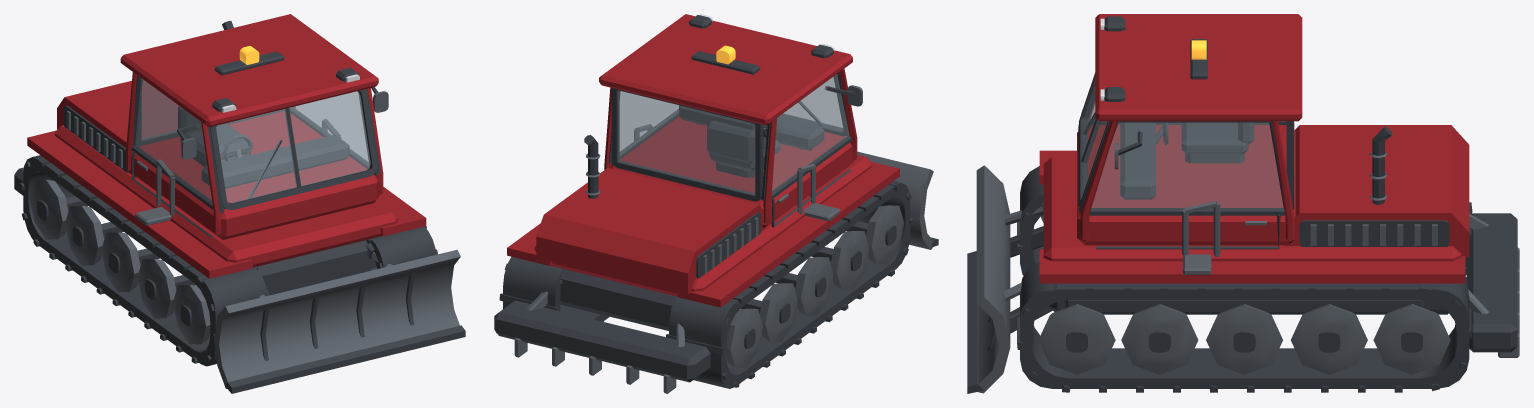
File: Snowcat.glb
The picture shows the model from 3 angles, left to right: view 1: azimuth 30°, elevation 25°; view 2: azimuth 150°, elevation 25°; view 3: azimuth 270°, elevation 25°; orthographic projection. The views are drawn at different scales.
Parts seen in each view (by area): view 1: Snowcat_Red, Snowcat_Steel, Snowcat_SteelDark, Snowcat_CabGlass, Snowcat_Rubber; view 2: Snowcat_Red, Snowcat_SteelDark, Snowcat_CabGlass, Snowcat_Rubber, Snowcat_Steel; view 3: Snowcat_Red, Snowcat_SteelDark, Snowcat_Steel, Snowcat_Rubber, Snowcat_CabGlass.
Boxes of the visible parts, bbox=[...] form: Snowcat_Red: bbox=[27, 14, 426, 278]; Snowcat_Steel: bbox=[29, 91, 460, 388]; Snowcat_SteelDark: bbox=[14, 20, 465, 393]; Snowcat_CabGlass: bbox=[135, 78, 370, 203]; Snowcat_Rubber: bbox=[23, 106, 436, 366]; Snowcat_Red: bbox=[507, 14, 899, 307]; Snowcat_SteelDark: bbox=[494, 15, 938, 387]; Snowcat_CabGlass: bbox=[617, 74, 848, 194]; Snowcat_Rubber: bbox=[503, 120, 910, 388]; Snowcat_Steel: bbox=[514, 85, 933, 393]; Snowcat_Red: bbox=[1039, 14, 1469, 283]; Snowcat_SteelDark: bbox=[967, 16, 1517, 393]; Snowcat_Steel: bbox=[976, 124, 1519, 393]; Snowcat_Rubber: bbox=[1020, 122, 1469, 388]; Snowcat_CabGlass: bbox=[1083, 85, 1283, 207].
Bounding box in the file's own units: 8 × 8 × 14.
